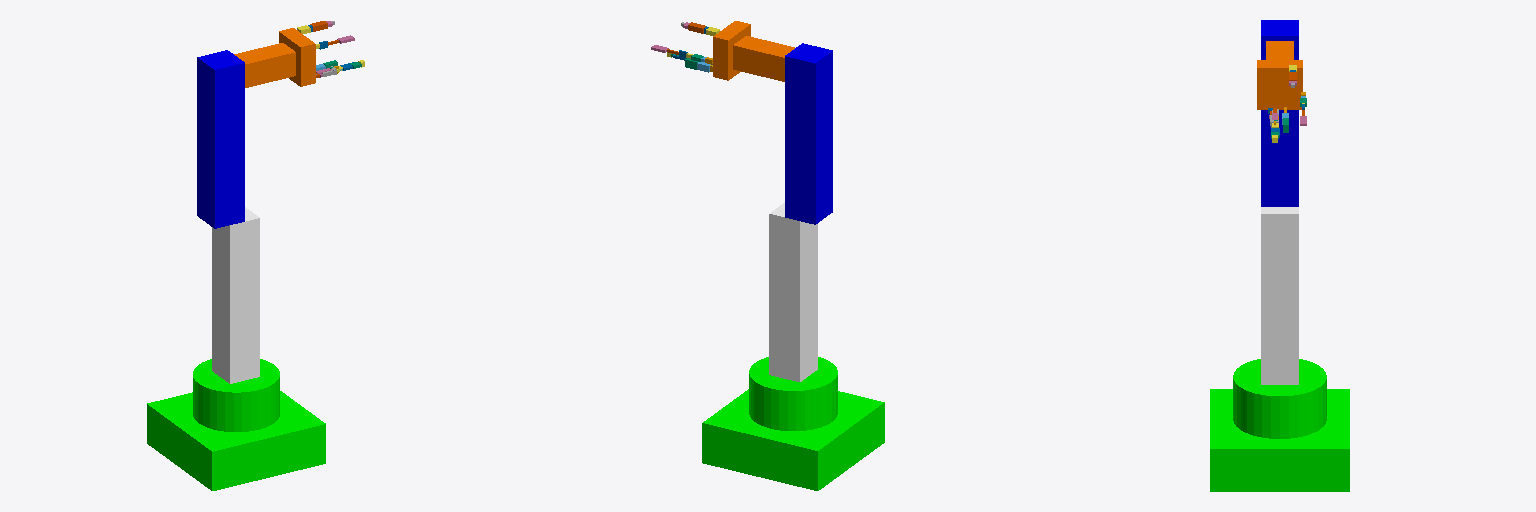
--- Facts derived from the render (not from the file) ---
Views: 3 orthographic renders of the robot side by side, from view 1: azimuth 30°, elevation 25°; view 2: azimuth 150°, elevation 25°; view 3: azimuth 270°, elevation 25°.
Model robot with 37 links and 36 joints (33 revolute, 1 continuous, 2 fixed), rooted at base_link, posed every joint at zero.
Links seen in each view (by area): view 1: base_link, arm_link, support_link, wrist_link, palm_link; view 2: base_link, arm_link, support_link, wrist_link, palm_link; view 3: base_link, support_link, arm_link, palm_link, wrist_link.
Link boxes in pixels (x1,y1,x2,y2): base_link: (147,359,325,490); arm_link: (197,50,244,228); support_link: (212,207,259,383); wrist_link: (234,43,295,87); palm_link: (279,28,315,86); base_link: (702,357,884,490); arm_link: (785,43,832,224); support_link: (769,203,817,381); wrist_link: (733,36,794,81); palm_link: (713,21,750,80); base_link: (1210,359,1349,491); support_link: (1261,207,1298,384); arm_link: (1261,20,1298,206); palm_link: (1257,60,1302,109); wrist_link: (1266,41,1293,59).
Bounding box of the posed robot: 1.21 × 0.75 × 2.54 m (x, y, z).
Geometry: primitives only (box / cylinder / sphere), no mesh files.

URDF robot description (robot):
<?xml version='1.0' encoding='utf-8'?>
<robot name="robot">
  <link name="base_link">
    <visual>
      <origin xyz="0 0 0.125" rpy="0 0 0" />
      <geometry>
        <box size="0.75 0.75 0.25" />
      </geometry>
      <material name="green" />
    </visual>
    <visual>
      <origin xyz="0 0 0.375" rpy="0 0 0" />
      <geometry>
        <cylinder length="0.25" radius="0.25" />
      </geometry>
      <material name="green">
        <color rgba="0 1 0 1" />
      </material>
    </visual>
    <collision>
      <geometry>
        <box size="0.75 0.75 0.5" />
      </geometry>
    </collision>
    <inertial>
      <mass value="0.5" />
      <inertia ixx="0.034" ixy="0.0" ixz="0.0" iyy="0.034" iyz="0.0" izz="0.034" />
    </inertial>
  </link>
  <link name="support_link">
    <visual>
      <origin xyz="0 0 0.5" rpy="0 0 0" />
      <geometry>
        <box size="0.2 0.2 1" />
      </geometry>
      <material name="white">
        <color rgba="1 1 1 1" />
      </material>
    </visual>
    <collision>
      <geometry>
        <box size="0.2 0.2 1" />
      </geometry>
    </collision>
    <inertial>
      <mass value="0.1" />
      <inertia ixx="0.01" ixy="0.0" ixz="0.0" iyy="0.01" iyz="0.0" izz="0.01" />
    </inertial>
  </link>
  <joint name="support_joint" type="continuous">
    <origin xyz="0 0 0.5" rpy="0 0 0" />
    <parent link="base_link" />
    <child link="support_link" />
    <axis xyz="0 0 1" />
  </joint>
  <link name="arm_link">
    <visual>
      <origin xyz="0 0 0.5" rpy="0 0 0" />
      <geometry>
        <box size="0.2 0.2 1" />
      </geometry>
      <material name="blue">
        <color rgba="0 0 1 1" />
      </material>
    </visual>
    <collision>
      <geometry>
        <box size="0.2 0.2 1" />
      </geometry>
    </collision>
    <inertial>
      <mass value="0.1" />
      <inertia ixx="0.01" ixy="0.0" ixz="0.0" iyy="0.01" iyz="0.0" izz="0.01" />
    </inertial>
  </link>
  <joint name="arm_joint" type="revolute">
    <origin xyz="-0.1 0 1" rpy="0 0 0" />
    <parent link="support_link" />
    <child link="arm_link" />
    <axis xyz="0 1 0" />
    <limit lower="-3.14" upper="3.14" effort="1.0" velocity="1.0" />
  </joint>
  <link name="wrist_link">
    <visual>
      <origin xyz="0 0 0.25" rpy="0 0 0" />
      <geometry>
        <box size="0.15 0.15 0.5" />
      </geometry>
      <material name="orange">
        <color rgba="1 0.5 0 1" />
      </material>
    </visual>
    <collision>
      <geometry>
        <box size="0.15 0.15 0.5" />
      </geometry>
    </collision>
    <inertial>
      <mass value="0.1" />
      <inertia ixx="0.01" ixy="0.0" ixz="0.0" iyy="0.01" iyz="0.0" izz="0.01" />
    </inertial>
  </link>
  <joint name="wrist_joint" type="fixed">
    <origin xyz="0 0 0.9" rpy="0 1.571 0" />
    <parent link="arm_link" />
    <child link="wrist_link" />
  </joint>
  <link name="palm_link">
    <visual>
      <origin xyz="0 0 0.05" rpy="0 0 0" />
      <geometry>
        <box size="0.25 0.25 0.1" />
      </geometry>
      <material name="orange" />
    </visual>
    <collision>
      <geometry>
        <box size="0.25 0.25 0.1" />
      </geometry>
    </collision>
    <inertial>
      <mass value="0.1" />
      <inertia ixx="0.01" ixy="0.0" ixz="0.0" iyy="0.01" iyz="0.0" izz="0.01" />
    </inertial>
  </link>
  <joint name="palm_joint" type="fixed">
    <origin xyz="0 0 0.45" rpy="0 0 0" />
    <parent link="wrist_link" />
    <child link="palm_link" />
  </joint>
  <link name="finger_link_0_0">
    <visual>
      <origin xyz="0 0 0.0315" rpy="0 0 0" />
      <geometry>
        <box size="0.026 0.02 0.063" />
      </geometry>
    </visual>
    <collision>
      <geometry>
        <box size="0.026 0.02 0.063" />
      </geometry>
    </collision>
    <inertial>
      <mass value="0.01" />
      <inertia ixx="0.0" iyy="0.0" izz="0.0" ixy="0" ixz="0" iyz="0" />
    </inertial>
  </link>
  <joint name="finger_joint_palm_link_to_finger_link_0_0" type="revolute">
    <origin xyz="0.125 -0.027 0.1" rpy="0 0 0" />
    <parent link="palm_link" />
    <child link="finger_link_0_0" />
    <axis xyz="1.0 1.0 0.0" />
    <limit lower="-3.142" upper="3.142" effort="10" velocity="10" />
  </joint>
  <link name="finger_link_0_1">
    <visual>
      <origin xyz="0 0 0.0495" rpy="0 0 0" />
      <geometry>
        <box size="0.032 0.028 0.099" />
      </geometry>
    </visual>
    <collision>
      <geometry>
        <box size="0.032 0.028 0.099" />
      </geometry>
    </collision>
    <inertial>
      <mass value="0.027" />
      <inertia ixx="0.0" iyy="0.0" izz="0.0" ixy="0" ixz="0" iyz="0" />
    </inertial>
  </link>
  <joint name="finger_joint_finger_link_0_0_to_finger_link_0_1" type="revolute">
    <origin xyz="0.0 0.0 0.063" rpy="0 0 0" />
    <parent link="finger_link_0_0" />
    <child link="finger_link_0_1" />
    <axis xyz="0.0 1.0 0.0" />
    <limit lower="-3.142" upper="3.142" effort="10" velocity="10" />
  </joint>
  <link name="finger_link_0_2">
    <visual>
      <origin xyz="0 0 0.01" rpy="0 0 0" />
      <geometry>
        <box size="0.036 0.045 0.02" />
      </geometry>
    </visual>
    <collision>
      <geometry>
        <box size="0.036 0.045 0.02" />
      </geometry>
    </collision>
    <inertial>
      <mass value="0.01" />
      <inertia ixx="0.0" iyy="0.0" izz="0.0" ixy="0" ixz="0" iyz="0" />
    </inertial>
  </link>
  <joint name="finger_joint_finger_link_0_1_to_finger_link_0_2" type="revolute">
    <origin xyz="0.0 0.0 0.099" rpy="0 0 0" />
    <parent link="finger_link_0_1" />
    <child link="finger_link_0_2" />
    <axis xyz="0.0 1.0 0.0" />
    <limit lower="-3.142" upper="3.142" effort="10" velocity="10" />
  </joint>
  <link name="finger_link_0_3">
    <visual>
      <origin xyz="0 0 0.0125" rpy="0 0 0" />
      <geometry>
        <box size="0.044 0.011 0.025" />
      </geometry>
    </visual>
    <collision>
      <geometry>
        <box size="0.044 0.011 0.025" />
      </geometry>
    </collision>
    <inertial>
      <mass value="0.004" />
      <inertia ixx="0.0" iyy="0.0" izz="0.0" ixy="0" ixz="0" iyz="0" />
    </inertial>
  </link>
  <joint name="finger_joint_finger_link_0_2_to_finger_link_0_3" type="revolute">
    <origin xyz="0.0 0.0 0.02" rpy="0 0 0" />
    <parent link="finger_link_0_2" />
    <child link="finger_link_0_3" />
    <axis xyz="0.0 1.0 0.0" />
    <limit lower="-3.142" upper="3.142" effort="10" velocity="10" />
  </joint>
  <link name="finger_link_0_4">
    <visual>
      <origin xyz="0 0 0.0435" rpy="0 0 0" />
      <geometry>
        <box size="0.014 0.026 0.087" />
      </geometry>
    </visual>
    <collision>
      <geometry>
        <box size="0.014 0.026 0.087" />
      </geometry>
    </collision>
    <inertial>
      <mass value="0.01" />
      <inertia ixx="0.0" iyy="0.0" izz="0.0" ixy="0" ixz="0" iyz="0" />
    </inertial>
  </link>
  <joint name="finger_joint_finger_link_0_3_to_finger_link_0_4" type="revolute">
    <origin xyz="0.0 0.0 0.025" rpy="0 0 0" />
    <parent link="finger_link_0_3" />
    <child link="finger_link_0_4" />
    <axis xyz="1.0 1.0 0.0" />
    <limit lower="-3.142" upper="3.142" effort="10" velocity="10" />
  </joint>
  <link name="finger_link_0_5">
    <visual>
      <origin xyz="0 0 0.0265" rpy="0 0 0" />
      <geometry>
        <box size="0.018 0.041 0.053" />
      </geometry>
    </visual>
    <collision>
      <geometry>
        <box size="0.018 0.041 0.053" />
      </geometry>
    </collision>
    <inertial>
      <mass value="0.012" />
      <inertia ixx="0.0" iyy="0.0" izz="0.0" ixy="0" ixz="0" iyz="0" />
    </inertial>
  </link>
  <joint name="finger_joint_finger_link_0_4_to_finger_link_0_5" type="revolute">
    <origin xyz="0.0 0.0 0.087" rpy="0 0 0" />
    <parent link="finger_link_0_4" />
    <child link="finger_link_0_5" />
    <axis xyz="0.0 1.0 0.0" />
    <limit lower="-3.142" upper="3.142" effort="10" velocity="10" />
  </joint>
  <link name="finger_link_0_6">
    <visual>
      <origin xyz="0 0 0.014" rpy="0 0 0" />
      <geometry>
        <box size="0.03 0.031 0.028" />
      </geometry>
    </visual>
    <collision>
      <geometry>
        <box size="0.03 0.031 0.028" />
      </geometry>
    </collision>
    <inertial>
      <mass value="0.008" />
      <inertia ixx="0.0" iyy="0.0" izz="0.0" ixy="0" ixz="0" iyz="0" />
    </inertial>
  </link>
  <joint name="finger_joint_finger_link_0_5_to_finger_link_0_6" type="revolute">
    <origin xyz="0.0 0.0 0.053" rpy="0 0 0" />
    <parent link="finger_link_0_5" />
    <child link="finger_link_0_6" />
    <axis xyz="0.0 1.0 0.0" />
    <limit lower="-3.142" upper="3.142" effort="10" velocity="10" />
  </joint>
  <link name="finger_link_1_0">
    <visual>
      <origin xyz="0 0 0.012" rpy="0 0 0" />
      <geometry>
        <box size="0.023 0.045 0.024" />
      </geometry>
    </visual>
    <collision>
      <geometry>
        <box size="0.023 0.045 0.024" />
      </geometry>
    </collision>
    <inertial>
      <mass value="0.007" />
      <inertia ixx="0.0" iyy="0.0" izz="0.0" ixy="0" ixz="0" iyz="0" />
    </inertial>
  </link>
  <joint name="finger_joint_palm_link_to_finger_link_1_0" type="revolute">
    <origin xyz="0.125 -0.043 0.1" rpy="0 0 0" />
    <parent link="palm_link" />
    <child link="finger_link_1_0" />
    <axis xyz="1.0 1.0 0.0" />
    <limit lower="-3.142" upper="3.142" effort="10" velocity="10" />
  </joint>
  <link name="finger_link_1_1">
    <visual>
      <origin xyz="0 0 0.0235" rpy="0 0 0" />
      <geometry>
        <box size="0.017 0.018 0.047" />
      </geometry>
    </visual>
    <collision>
      <geometry>
        <box size="0.017 0.018 0.047" />
      </geometry>
    </collision>
    <inertial>
      <mass value="0.004" />
      <inertia ixx="0.0" iyy="0.0" izz="0.0" ixy="0" ixz="0" iyz="0" />
    </inertial>
  </link>
  <joint name="finger_joint_finger_link_1_0_to_finger_link_1_1" type="revolute">
    <origin xyz="0.0 0.0 0.024" rpy="0 0 0" />
    <parent link="finger_link_1_0" />
    <child link="finger_link_1_1" />
    <axis xyz="1.0 1.0 0.0" />
    <limit lower="-3.142" upper="3.142" effort="10" velocity="10" />
  </joint>
  <link name="finger_link_1_2">
    <visual>
      <origin xyz="0 0 0.0095" rpy="0 0 0" />
      <geometry>
        <box size="0.014 0.028 0.019" />
      </geometry>
    </visual>
    <collision>
      <geometry>
        <box size="0.014 0.028 0.019" />
      </geometry>
    </collision>
    <inertial>
      <mass value="0.002" />
      <inertia ixx="0.0" iyy="0.0" izz="0.0" ixy="0" ixz="0" iyz="0" />
    </inertial>
  </link>
  <joint name="finger_joint_finger_link_1_1_to_finger_link_1_2" type="revolute">
    <origin xyz="0.0 0.0 0.047" rpy="0 0 0" />
    <parent link="finger_link_1_1" />
    <child link="finger_link_1_2" />
    <axis xyz="0.0 1.0 0.0" />
    <limit lower="-3.142" upper="3.142" effort="10" velocity="10" />
  </joint>
  <link name="finger_link_1_3">
    <visual>
      <origin xyz="0 0 0.0405" rpy="0 0 0" />
      <geometry>
        <box size="0.024 0.024 0.081" />
      </geometry>
    </visual>
    <collision>
      <geometry>
        <box size="0.024 0.024 0.081" />
      </geometry>
    </collision>
    <inertial>
      <mass value="0.014" />
      <inertia ixx="0.0" iyy="0.0" izz="0.0" ixy="0" ixz="0" iyz="0" />
    </inertial>
  </link>
  <joint name="finger_joint_finger_link_1_2_to_finger_link_1_3" type="revolute">
    <origin xyz="0.0 0.0 0.019" rpy="0 0 0" />
    <parent link="finger_link_1_2" />
    <child link="finger_link_1_3" />
    <axis xyz="1.0 1.0 0.0" />
    <limit lower="-3.142" upper="3.142" effort="10" velocity="10" />
  </joint>
  <link name="finger_link_2_0">
    <visual>
      <origin xyz="0 0 0.0355" rpy="0 0 0" />
      <geometry>
        <box size="0.035 0.018 0.071" />
      </geometry>
    </visual>
    <collision>
      <geometry>
        <box size="0.035 0.018 0.071" />
      </geometry>
    </collision>
    <inertial>
      <mass value="0.013" />
      <inertia ixx="0.0" iyy="0.0" izz="0.0" ixy="0" ixz="0" iyz="0" />
    </inertial>
  </link>
  <joint name="finger_joint_palm_link_to_finger_link_2_0" type="revolute">
    <origin xyz="0.125 0.03 0.1" rpy="0 0 0" />
    <parent link="palm_link" />
    <child link="finger_link_2_0" />
    <axis xyz="1.0 1.0 0.0" />
    <limit lower="-3.142" upper="3.142" effort="10" velocity="10" />
  </joint>
  <link name="finger_link_2_1">
    <visual>
      <origin xyz="0 0 0.038" rpy="0 0 0" />
      <geometry>
        <box size="0.04 0.037 0.076" />
      </geometry>
    </visual>
    <collision>
      <geometry>
        <box size="0.04 0.037 0.076" />
      </geometry>
    </collision>
    <inertial>
      <mass value="0.034" />
      <inertia ixx="0.0" iyy="0.0" izz="0.0" ixy="0" ixz="0" iyz="0" />
    </inertial>
  </link>
  <joint name="finger_joint_finger_link_2_0_to_finger_link_2_1" type="revolute">
    <origin xyz="0.0 0.0 0.071" rpy="0 0 0" />
    <parent link="finger_link_2_0" />
    <child link="finger_link_2_1" />
    <axis xyz="1.0 1.0 0.0" />
    <limit lower="-3.142" upper="3.142" effort="10" velocity="10" />
  </joint>
  <link name="finger_link_2_2">
    <visual>
      <origin xyz="0 0 0.0415" rpy="0 0 0" />
      <geometry>
        <box size="0.048 0.033 0.083" />
      </geometry>
    </visual>
    <collision>
      <geometry>
        <box size="0.048 0.033 0.083" />
      </geometry>
    </collision>
    <inertial>
      <mass value="0.039" />
      <inertia ixx="0.0" iyy="0.0" izz="0.0" ixy="0" ixz="0" iyz="0" />
    </inertial>
  </link>
  <joint name="finger_joint_finger_link_2_1_to_finger_link_2_2" type="revolute">
    <origin xyz="0.0 0.0 0.076" rpy="0 0 0" />
    <parent link="finger_link_2_1" />
    <child link="finger_link_2_2" />
    <axis xyz="0.0 1.0 0.0" />
    <limit lower="-3.142" upper="3.142" effort="10" velocity="10" />
  </joint>
  <link name="finger_link_3_0">
    <visual>
      <origin xyz="0 0 0.0335" rpy="0 0 0" />
      <geometry>
        <box size="0.028 0.047 0.067" />
      </geometry>
    </visual>
    <collision>
      <geometry>
        <box size="0.028 0.047 0.067" />
      </geometry>
    </collision>
    <inertial>
      <mass value="0.026" />
      <inertia ixx="0.0" iyy="0.0" izz="0.0" ixy="0" ixz="0" iyz="0" />
    </inertial>
  </link>
  <joint name="finger_joint_palm_link_to_finger_link_3_0" type="revolute">
    <origin xyz="-0.125 0.069 0.1" rpy="0 0 0" />
    <parent link="palm_link" />
    <child link="finger_link_3_0" />
    <axis xyz="0.0 1.0 0.0" />
    <limit lower="-3.142" upper="3.142" effort="10" velocity="10" />
  </joint>
  <link name="finger_link_3_1">
    <visual>
      <origin xyz="0 0 0.009" rpy="0 0 0" />
      <geometry>
        <box size="0.034 0.028 0.018" />
      </geometry>
    </visual>
    <collision>
      <geometry>
        <box size="0.034 0.028 0.018" />
      </geometry>
    </collision>
    <inertial>
      <mass value="0.005" />
      <inertia ixx="0.0" iyy="0.0" izz="0.0" ixy="0" ixz="0" iyz="0" />
    </inertial>
  </link>
  <joint name="finger_joint_finger_link_3_0_to_finger_link_3_1" type="revolute">
    <origin xyz="0.0 0.0 0.067" rpy="0 0 0" />
    <parent link="finger_link_3_0" />
    <child link="finger_link_3_1" />
    <axis xyz="0.0 1.0 0.0" />
    <limit lower="-3.142" upper="3.142" effort="10" velocity="10" />
  </joint>
  <link name="finger_link_3_2">
    <visual>
      <origin xyz="0 0 0.049" rpy="0 0 0" />
      <geometry>
        <box size="0.033 0.043 0.098" />
      </geometry>
    </visual>
    <collision>
      <geometry>
        <box size="0.033 0.043 0.098" />
      </geometry>
    </collision>
    <inertial>
      <mass value="0.042" />
      <inertia ixx="0.0" iyy="0.0" izz="0.0" ixy="0" ixz="0" iyz="0" />
    </inertial>
  </link>
  <joint name="finger_joint_finger_link_3_1_to_finger_link_3_2" type="revolute">
    <origin xyz="0.0 0.0 0.018" rpy="0 0 0" />
    <parent link="finger_link_3_1" />
    <child link="finger_link_3_2" />
    <axis xyz="1.0 1.0 0.0" />
    <limit lower="-3.142" upper="3.142" effort="10" velocity="10" />
  </joint>
  <link name="finger_link_3_3">
    <visual>
      <origin xyz="0 0 0.016" rpy="0 0 0" />
      <geometry>
        <box size="0.017 0.045 0.032" />
      </geometry>
    </visual>
    <collision>
      <geometry>
        <box size="0.017 0.045 0.032" />
      </geometry>
    </collision>
    <inertial>
      <mass value="0.007" />
      <inertia ixx="0.0" iyy="0.0" izz="0.0" ixy="0" ixz="0" iyz="0" />
    </inertial>
  </link>
  <joint name="finger_joint_finger_link_3_2_to_finger_link_3_3" type="revolute">
    <origin xyz="0.0 0.0 0.098" rpy="0 0 0" />
    <parent link="finger_link_3_2" />
    <child link="finger_link_3_3" />
    <axis xyz="0.0 1.0 0.0" />
    <limit lower="-3.142" upper="3.142" effort="10" velocity="10" />
  </joint>
  <link name="finger_link_3_4">
    <visual>
      <origin xyz="0 0 0.0095" rpy="0 0 0" />
      <geometry>
        <box size="0.019 0.017 0.019" />
      </geometry>
    </visual>
    <collision>
      <geometry>
        <box size="0.019 0.017 0.019" />
      </geometry>
    </collision>
    <inertial>
      <mass value="0.002" />
      <inertia ixx="0.0" iyy="0.0" izz="0.0" ixy="0" ixz="0" iyz="0" />
    </inertial>
  </link>
  <joint name="finger_joint_finger_link_3_3_to_finger_link_3_4" type="revolute">
    <origin xyz="0.0 0.0 0.032" rpy="0 0 0" />
    <parent link="finger_link_3_3" />
    <child link="finger_link_3_4" />
    <axis xyz="0.0 1.0 0.0" />
    <limit lower="-3.142" upper="3.142" effort="10" velocity="10" />
  </joint>
  <link name="finger_link_4_0">
    <visual>
      <origin xyz="0 0 0.0225" rpy="0 0 0" />
      <geometry>
        <box size="0.028 0.024 0.045" />
      </geometry>
    </visual>
    <collision>
      <geometry>
        <box size="0.028 0.024 0.045" />
      </geometry>
    </collision>
    <inertial>
      <mass value="0.009" />
      <inertia ixx="0.0" iyy="0.0" izz="0.0" ixy="0" ixz="0" iyz="0" />
    </inertial>
  </link>
  <joint name="finger_joint_palm_link_to_finger_link_4_0" type="revolute">
    <origin xyz="0.03 0.125 0.1" rpy="0 0 0" />
    <parent link="palm_link" />
    <child link="finger_link_4_0" />
    <axis xyz="0.0 1.0 0.0" />
    <limit lower="-3.142" upper="3.142" effort="10" velocity="10" />
  </joint>
  <link name="finger_link_4_1">
    <visual>
      <origin xyz="0 0 0.012" rpy="0 0 0" />
      <geometry>
        <box size="0.018 0.03 0.024" />
      </geometry>
    </visual>
    <collision>
      <geometry>
        <box size="0.018 0.03 0.024" />
      </geometry>
    </collision>
    <inertial>
      <mass value="0.004" />
      <inertia ixx="0.0" iyy="0.0" izz="0.0" ixy="0" ixz="0" iyz="0" />
    </inertial>
  </link>
  <joint name="finger_joint_finger_link_4_0_to_finger_link_4_1" type="revolute">
    <origin xyz="0.0 0.0 0.045" rpy="0 0 0" />
    <parent link="finger_link_4_0" />
    <child link="finger_link_4_1" />
    <axis xyz="0.0 1.0 0.0" />
    <limit lower="-3.142" upper="3.142" effort="10" velocity="10" />
  </joint>
  <link name="finger_link_4_2">
    <visual>
      <origin xyz="0 0 0.031" rpy="0 0 0" />
      <geometry>
        <box size="0.023 0.038 0.062" />
      </geometry>
    </visual>
    <collision>
      <geometry>
        <box size="0.023 0.038 0.062" />
      </geometry>
    </collision>
    <inertial>
      <mass value="0.016" />
      <inertia ixx="0.0" iyy="0.0" izz="0.0" ixy="0" ixz="0" iyz="0" />
    </inertial>
  </link>
  <joint name="finger_joint_finger_link_4_1_to_finger_link_4_2" type="revolute">
    <origin xyz="0.0 0.0 0.024" rpy="0 0 0" />
    <parent link="finger_link_4_1" />
    <child link="finger_link_4_2" />
    <axis xyz="0.0 1.0 0.0" />
    <limit lower="-3.142" upper="3.142" effort="10" velocity="10" />
  </joint>
  <link name="finger_link_4_3">
    <visual>
      <origin xyz="0 0 0.019" rpy="0 0 0" />
      <geometry>
        <box size="0.021 0.014 0.038" />
      </geometry>
    </visual>
    <collision>
      <geometry>
        <box size="0.021 0.014 0.038" />
      </geometry>
    </collision>
    <inertial>
      <mass value="0.003" />
      <inertia ixx="0.0" iyy="0.0" izz="0.0" ixy="0" ixz="0" iyz="0" />
    </inertial>
  </link>
  <joint name="finger_joint_finger_link_4_2_to_finger_link_4_3" type="revolute">
    <origin xyz="0.0 0.0 0.062" rpy="0 0 0" />
    <parent link="finger_link_4_2" />
    <child link="finger_link_4_3" />
    <axis xyz="1.0 1.0 0.0" />
    <limit lower="-3.142" upper="3.142" effort="10" velocity="10" />
  </joint>
  <link name="finger_link_4_4">
    <visual>
      <origin xyz="0 0 0.025" rpy="0 0 0" />
      <geometry>
        <box size="0.04 0.013 0.05" />
      </geometry>
    </visual>
    <collision>
      <geometry>
        <box size="0.04 0.013 0.05" />
      </geometry>
    </collision>
    <inertial>
      <mass value="0.008" />
      <inertia ixx="0.0" iyy="0.0" izz="0.0" ixy="0" ixz="0" iyz="0" />
    </inertial>
  </link>
  <joint name="finger_joint_finger_link_4_3_to_finger_link_4_4" type="revolute">
    <origin xyz="0.0 0.0 0.038" rpy="0 0 0" />
    <parent link="finger_link_4_3" />
    <child link="finger_link_4_4" />
    <axis xyz="0.0 1.0 0.0" />
    <limit lower="-3.142" upper="3.142" effort="10" velocity="10" />
  </joint>
  <link name="finger_link_4_5">
    <visual>
      <origin xyz="0 0 0.039" rpy="0 0 0" />
      <geometry>
        <box size="0.015 0.012 0.078" />
      </geometry>
    </visual>
    <collision>
      <geometry>
        <box size="0.015 0.012 0.078" />
      </geometry>
    </collision>
    <inertial>
      <mass value="0.004" />
      <inertia ixx="0.0" iyy="0.0" izz="0.0" ixy="0" ixz="0" iyz="0" />
    </inertial>
  </link>
  <joint name="finger_joint_finger_link_4_4_to_finger_link_4_5" type="revolute">
    <origin xyz="0.0 0.0 0.05" rpy="0 0 0" />
    <parent link="finger_link_4_4" />
    <child link="finger_link_4_5" />
    <axis xyz="1.0 0.0 0.0" />
    <limit lower="-3.142" upper="3.142" effort="10" velocity="10" />
  </joint>
  <link name="finger_link_4_6">
    <visual>
      <origin xyz="0 0 0.046" rpy="0 0 0" />
      <geometry>
        <box size="0.016 0.042 0.092" />
      </geometry>
    </visual>
    <collision>
      <geometry>
        <box size="0.016 0.042 0.092" />
      </geometry>
    </collision>
    <inertial>
      <mass value="0.019" />
      <inertia ixx="0.0" iyy="0.0" izz="0.0" ixy="0" ixz="0" iyz="0" />
    </inertial>
  </link>
  <joint name="finger_joint_finger_link_4_5_to_finger_link_4_6" type="revolute">
    <origin xyz="0.0 0.0 0.078" rpy="0 0 0" />
    <parent link="finger_link_4_5" />
    <child link="finger_link_4_6" />
    <axis xyz="1.0 1.0 0.0" />
    <limit lower="-3.142" upper="3.142" effort="10" velocity="10" />
  </joint>
  <link name="finger_link_5_0">
    <visual>
      <origin xyz="0 0 0.041" rpy="0 0 0" />
      <geometry>
        <box size="0.021 0.038 0.082" />
      </geometry>
    </visual>
    <collision>
      <geometry>
        <box size="0.021 0.038 0.082" />
      </geometry>
    </collision>
    <inertial>
      <mass value="0.02" />
      <inertia ixx="0.0" iyy="0.0" izz="0.0" ixy="0" ixz="0" iyz="0" />
    </inertial>
  </link>
  <joint name="finger_joint_palm_link_to_finger_link_5_0" type="revolute">
    <origin xyz="0.125 -0.022 0.1" rpy="0 0 0" />
    <parent link="palm_link" />
    <child link="finger_link_5_0" />
    <axis xyz="1.0 0.0 0.0" />
    <limit lower="-3.142" upper="3.142" effort="10" velocity="10" />
  </joint>
  <link name="finger_link_5_1">
    <visual>
      <origin xyz="0 0 0.025" rpy="0 0 0" />
      <geometry>
        <box size="0.015 0.034 0.05" />
      </geometry>
    </visual>
    <collision>
      <geometry>
        <box size="0.015 0.034 0.05" />
      </geometry>
    </collision>
    <inertial>
      <mass value="0.008" />
      <inertia ixx="0.0" iyy="0.0" izz="0.0" ixy="0" ixz="0" iyz="0" />
    </inertial>
  </link>
  <joint name="finger_joint_finger_link_5_0_to_finger_link_5_1" type="revolute">
    <origin xyz="0.0 0.0 0.082" rpy="0 0 0" />
    <parent link="finger_link_5_0" />
    <child link="finger_link_5_1" />
    <axis xyz="1.0 0.0 0.0" />
    <limit lower="-3.142" upper="3.142" effort="10" velocity="10" />
  </joint>
  <link name="finger_link_5_2">
    <visual>
      <origin xyz="0 0 0.012" rpy="0 0 0" />
      <geometry>
        <box size="0.028 0.013 0.024" />
      </geometry>
    </visual>
    <collision>
      <geometry>
        <box size="0.028 0.013 0.024" />
      </geometry>
    </collision>
    <inertial>
      <mass value="0.003" />
      <inertia ixx="0.0" iyy="0.0" izz="0.0" ixy="0" ixz="0" iyz="0" />
    </inertial>
  </link>
  <joint name="finger_joint_finger_link_5_1_to_finger_link_5_2" type="revolute">
    <origin xyz="0.0 0.0 0.05" rpy="0 0 0" />
    <parent link="finger_link_5_1" />
    <child link="finger_link_5_2" />
    <axis xyz="0.0 1.0 0.0" />
    <limit lower="-3.142" upper="3.142" effort="10" velocity="10" />
  </joint>
  <link name="finger_link_5_3">
    <visual>
      <origin xyz="0 0 0.009" rpy="0 0 0" />
      <geometry>
        <box size="0.037 0.018 0.018" />
      </geometry>
    </visual>
    <collision>
      <geometry>
        <box size="0.037 0.018 0.018" />
      </geometry>
    </collision>
    <inertial>
      <mass value="0.004" />
      <inertia ixx="0.0" iyy="0.0" izz="0.0" ixy="0" ixz="0" iyz="0" />
    </inertial>
  </link>
  <joint name="finger_joint_finger_link_5_2_to_finger_link_5_3" type="revolute">
    <origin xyz="0.0 0.0 0.024" rpy="0 0 0" />
    <parent link="finger_link_5_2" />
    <child link="finger_link_5_3" />
    <axis xyz="1.0 1.0 0.0" />
    <limit lower="-3.142" upper="3.142" effort="10" velocity="10" />
  </joint>
  <link name="finger_link_5_4">
    <visual>
      <origin xyz="0 0 0.029" rpy="0 0 0" />
      <geometry>
        <box size="0.016 0.036 0.058" />
      </geometry>
    </visual>
    <collision>
      <geometry>
        <box size="0.016 0.036 0.058" />
      </geometry>
    </collision>
    <inertial>
      <mass value="0.01" />
      <inertia ixx="0.0" iyy="0.0" izz="0.0" ixy="0" ixz="0" iyz="0" />
    </inertial>
  </link>
  <joint name="finger_joint_finger_link_5_3_to_finger_link_5_4" type="revolute">
    <origin xyz="0.0 0.0 0.018" rpy="0 0 0" />
    <parent link="finger_link_5_3" />
    <child link="finger_link_5_4" />
    <axis xyz="0.0 1.0 0.0" />
    <limit lower="-3.142" upper="3.142" effort="10" velocity="10" />
  </joint>
  <link name="finger_link_5_5">
    <visual>
      <origin xyz="0 0 0.0495" rpy="0 0 0" />
      <geometry>
        <box size="0.015 0.049 0.099" />
      </geometry>
    </visual>
    <collision>
      <geometry>
        <box size="0.015 0.049 0.099" />
      </geometry>
    </collision>
    <inertial>
      <mass value="0.022" />
      <inertia ixx="0.0" iyy="0.0" izz="0.0" ixy="0" ixz="0" iyz="0" />
    </inertial>
  </link>
  <joint name="finger_joint_finger_link_5_4_to_finger_link_5_5" type="revolute">
    <origin xyz="0.0 0.0 0.058" rpy="0 0 0" />
    <parent link="finger_link_5_4" />
    <child link="finger_link_5_5" />
    <axis xyz="0.0 1.0 0.0" />
    <limit lower="-3.142" upper="3.142" effort="10" velocity="10" />
  </joint>
</robot>
